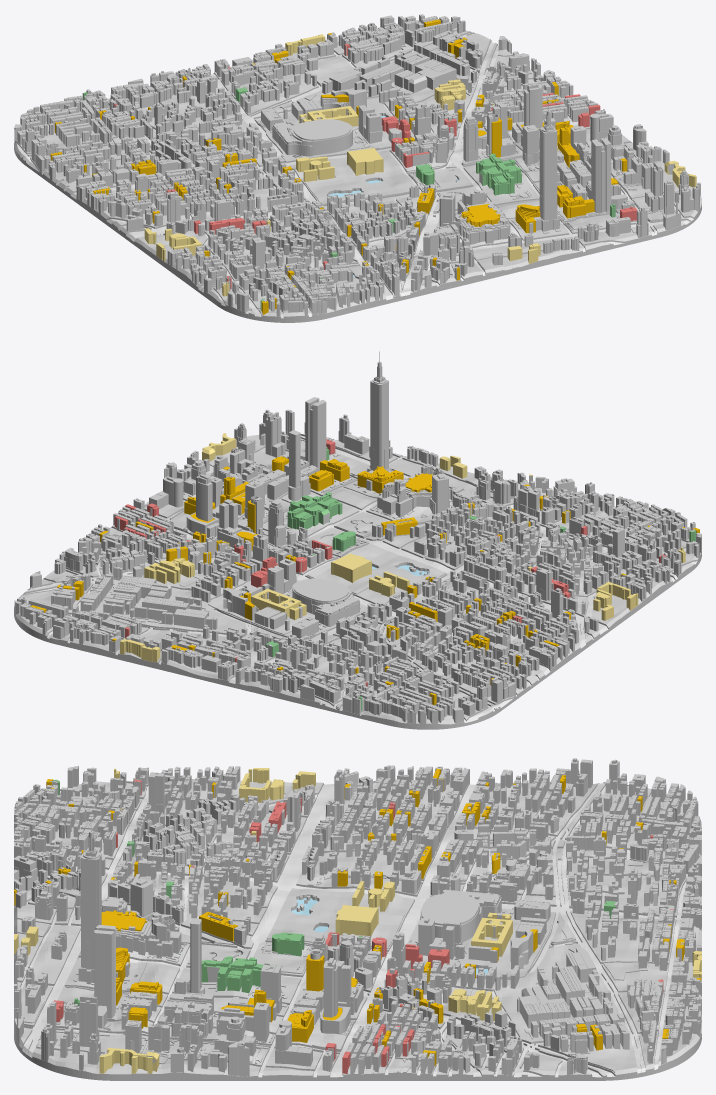
The model's file is Neike_2000m_1x1.glb.
The picture shows the model from 3 angles, top to bottom: view 1: azimuth 30°, elevation 25°; view 2: azimuth 150°, elevation 25°; view 3: azimuth 270°, elevation 25°; orthographic projection. The views are drawn at different scales.
Visible parts, largest first — view 1: color_0, color_3, color_2, color_6, color_4, color_5; view 2: color_0, color_3, color_6, color_2, color_5, color_4; view 3: color_0, color_2, color_3, color_6, color_4, color_5.
Boxes of the visible parts, <box> form: color_0: <box>14,14,701,322</box>; color_3: <box>50,19,627,314</box>; color_2: <box>14,31,693,318</box>; color_6: <box>144,34,696,296</box>; color_4: <box>114,44,637,288</box>; color_5: <box>83,87,615,310</box>; color_0: <box>14,351,701,729</box>; color_3: <box>30,456,699,705</box>; color_6: <box>120,433,685,662</box>; color_2: <box>14,435,697,722</box>; color_5: <box>265,447,696,710</box>; color_4: <box>114,439,666,686</box>; color_0: <box>14,758,701,1080</box>; color_2: <box>14,782,701,1077</box>; color_3: <box>14,768,700,1065</box>; color_6: <box>14,768,701,1073</box>; color_4: <box>53,779,673,1073</box>; color_5: <box>52,779,617,1006</box>.
Size of the model in its own units: 200 by 54.36 by 200.
